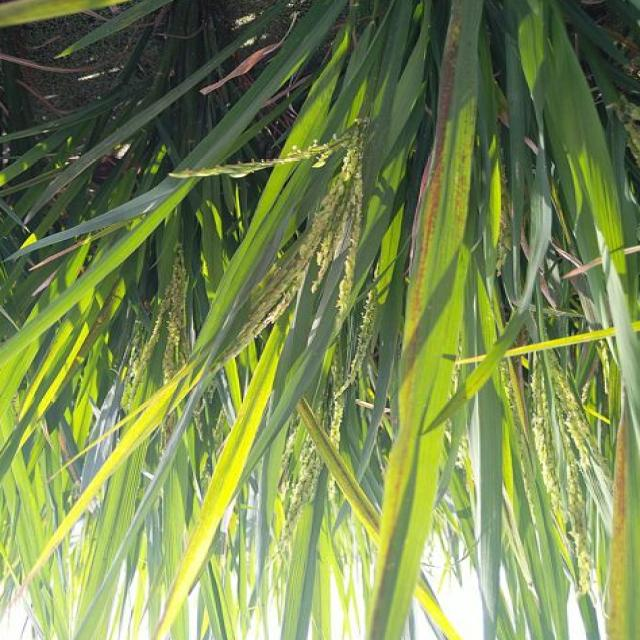Leaf Streak: (368, 54, 455, 640), (296, 400, 379, 540), (606, 410, 626, 640), (452, 109, 477, 222)
